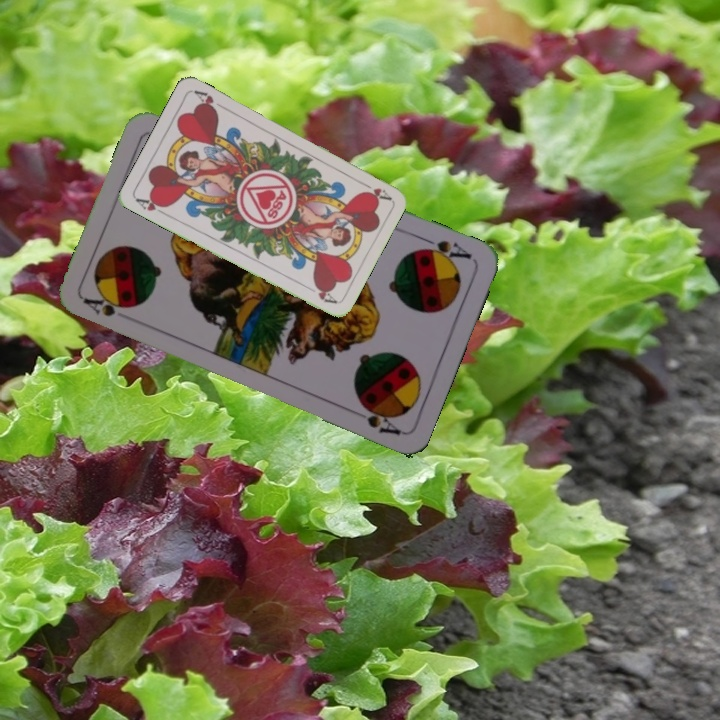HA: (355, 177, 393, 203), (132, 194, 170, 218)
SA: (415, 233, 475, 267), (80, 293, 129, 319)
